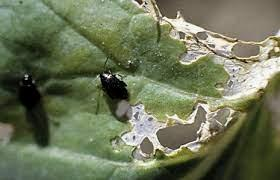Bok-Choy-Diseased: (67, 18, 233, 157)
